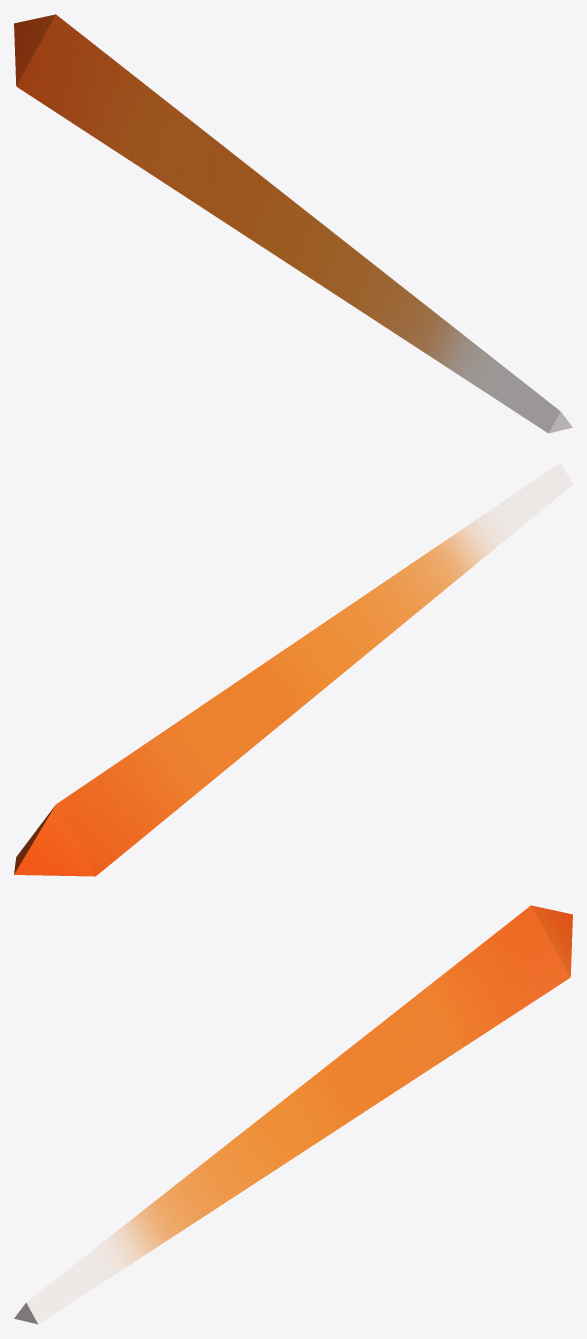
Rendered from Projectile.glb.
3 views of the same model, one above another, from view 1: azimuth 30°, elevation 25°; view 2: azimuth 150°, elevation 25°; view 3: azimuth 330°, elevation 25° (orthographic).
Parts seen in each view (by area): view 1: Cube; view 2: Cube; view 3: Cube.
Boxes of the visible parts, x1,y1,x2,y2 form: Cube: [14, 14, 572, 433]; Cube: [14, 462, 572, 876]; Cube: [14, 905, 572, 1324].
Bounding box in the file's own units: 0.0501 × 0.0376 × 0.5965.
1 material, 1 textured.
